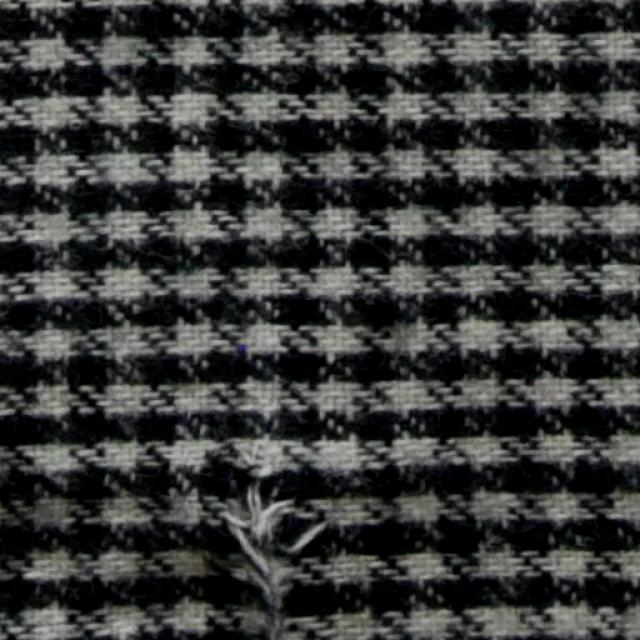Snag: (217, 451, 344, 639)
